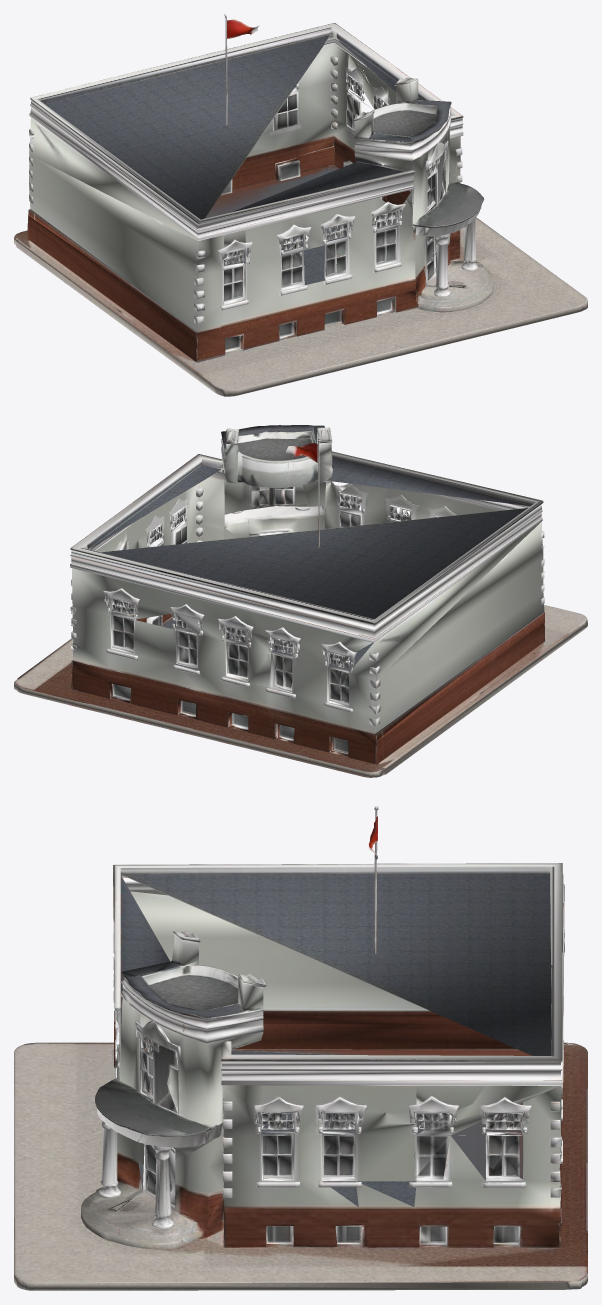
File: village-school.glb
3 renders of one model, top to bottom at view 1: azimuth 30°, elevation 25°; view 2: azimuth 150°, elevation 25°; view 3: azimuth 270°, elevation 25°, orthographic. The views are drawn at different scales.
Size of the model in its own units: 0.9488 by 0.6152 by 0.9575.
1 material, 1 textured.
